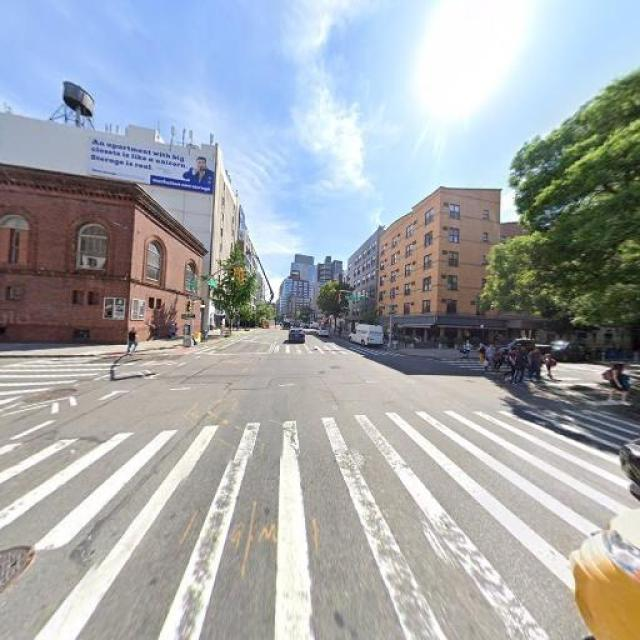Building: (1, 168, 201, 348), (378, 193, 498, 344), (214, 153, 232, 330), (350, 239, 375, 333)
